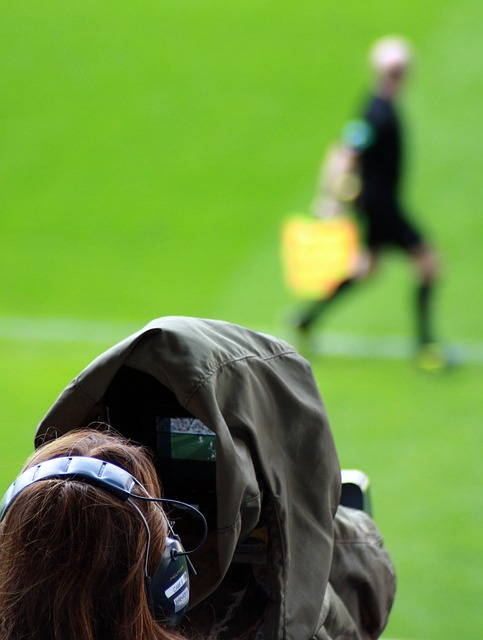headphones: (1, 458, 192, 621)
